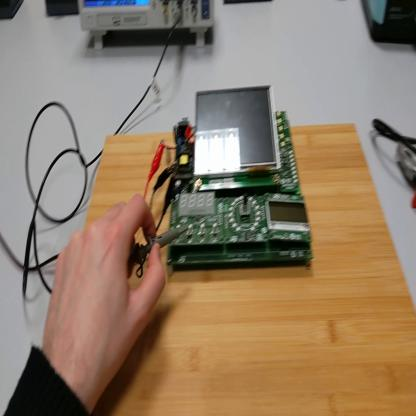hand: (43, 192, 168, 388)
low voltage board: (167, 80, 318, 273)
oscilloscope: (79, 2, 215, 49)
oscilloscope probe tip: (132, 223, 193, 267)
pliers: (399, 142, 416, 208)
socket: (47, 2, 79, 17), (2, 2, 25, 22)
welder station: (363, 2, 416, 49)
working area: (87, 120, 416, 414)
